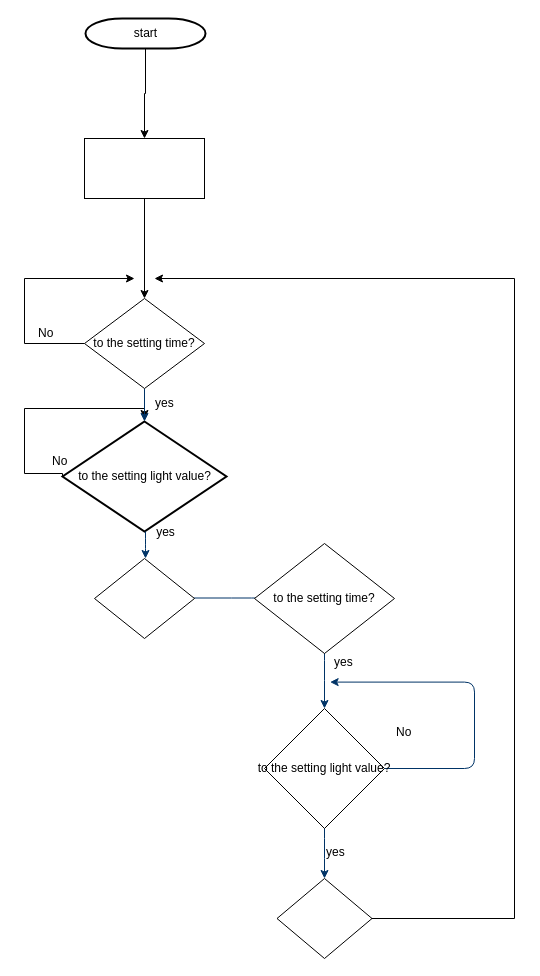
Some shapes in this 540 by 976 pixel diagram are drawn without their labels. The shapes that lost their labels are listed below. From the top down, each one's box as (x1, y1, x2, y2) in pixels, then its label:
(84, 138, 204, 198): reading setting from EPPROM
(94, 558, 194, 638): open the door
(276, 878, 372, 958): close the door
